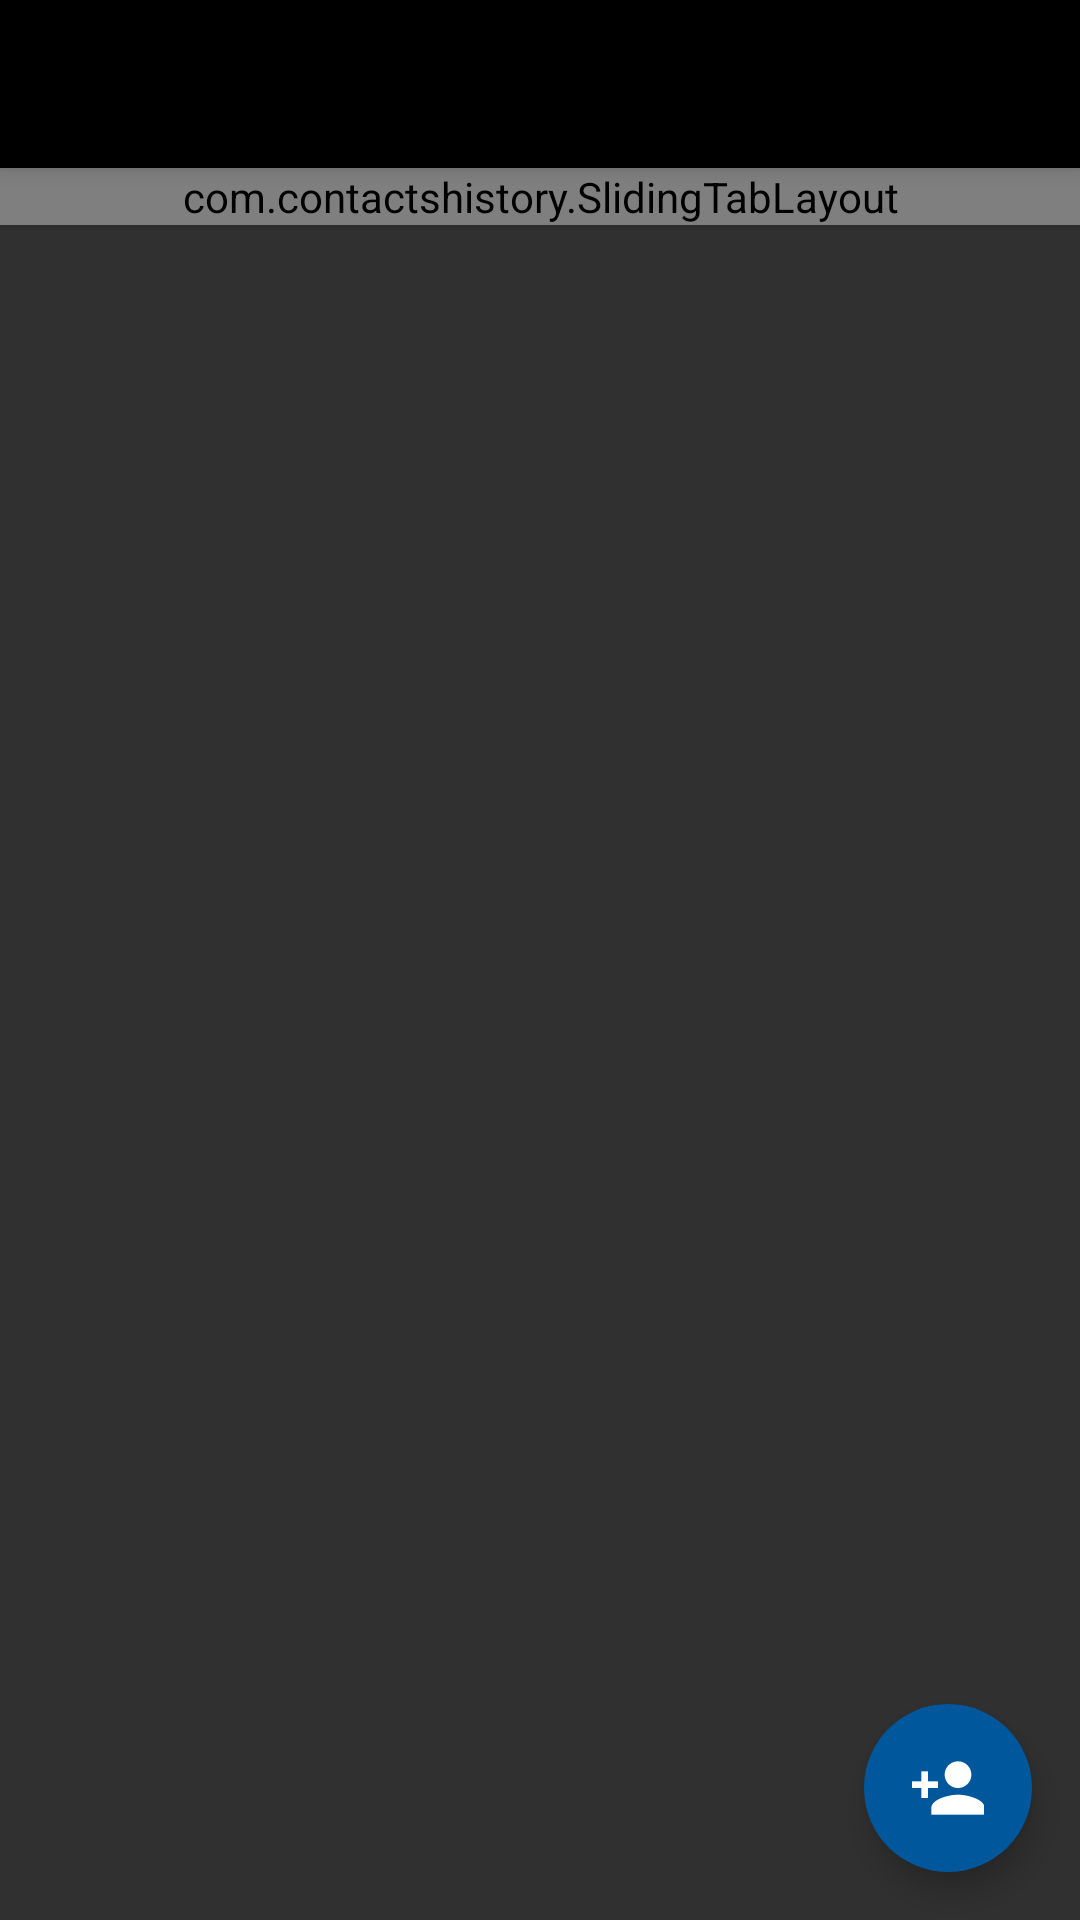

Point at icon controls on the screen. Image size 1080w x 1920h, points as (x,y).
social person add: (948,1788)
